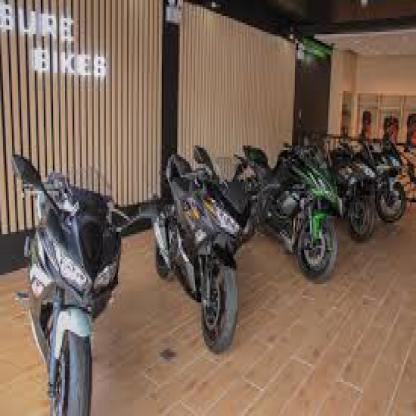Motorcycle: (8, 150, 141, 414), (157, 137, 246, 362)
